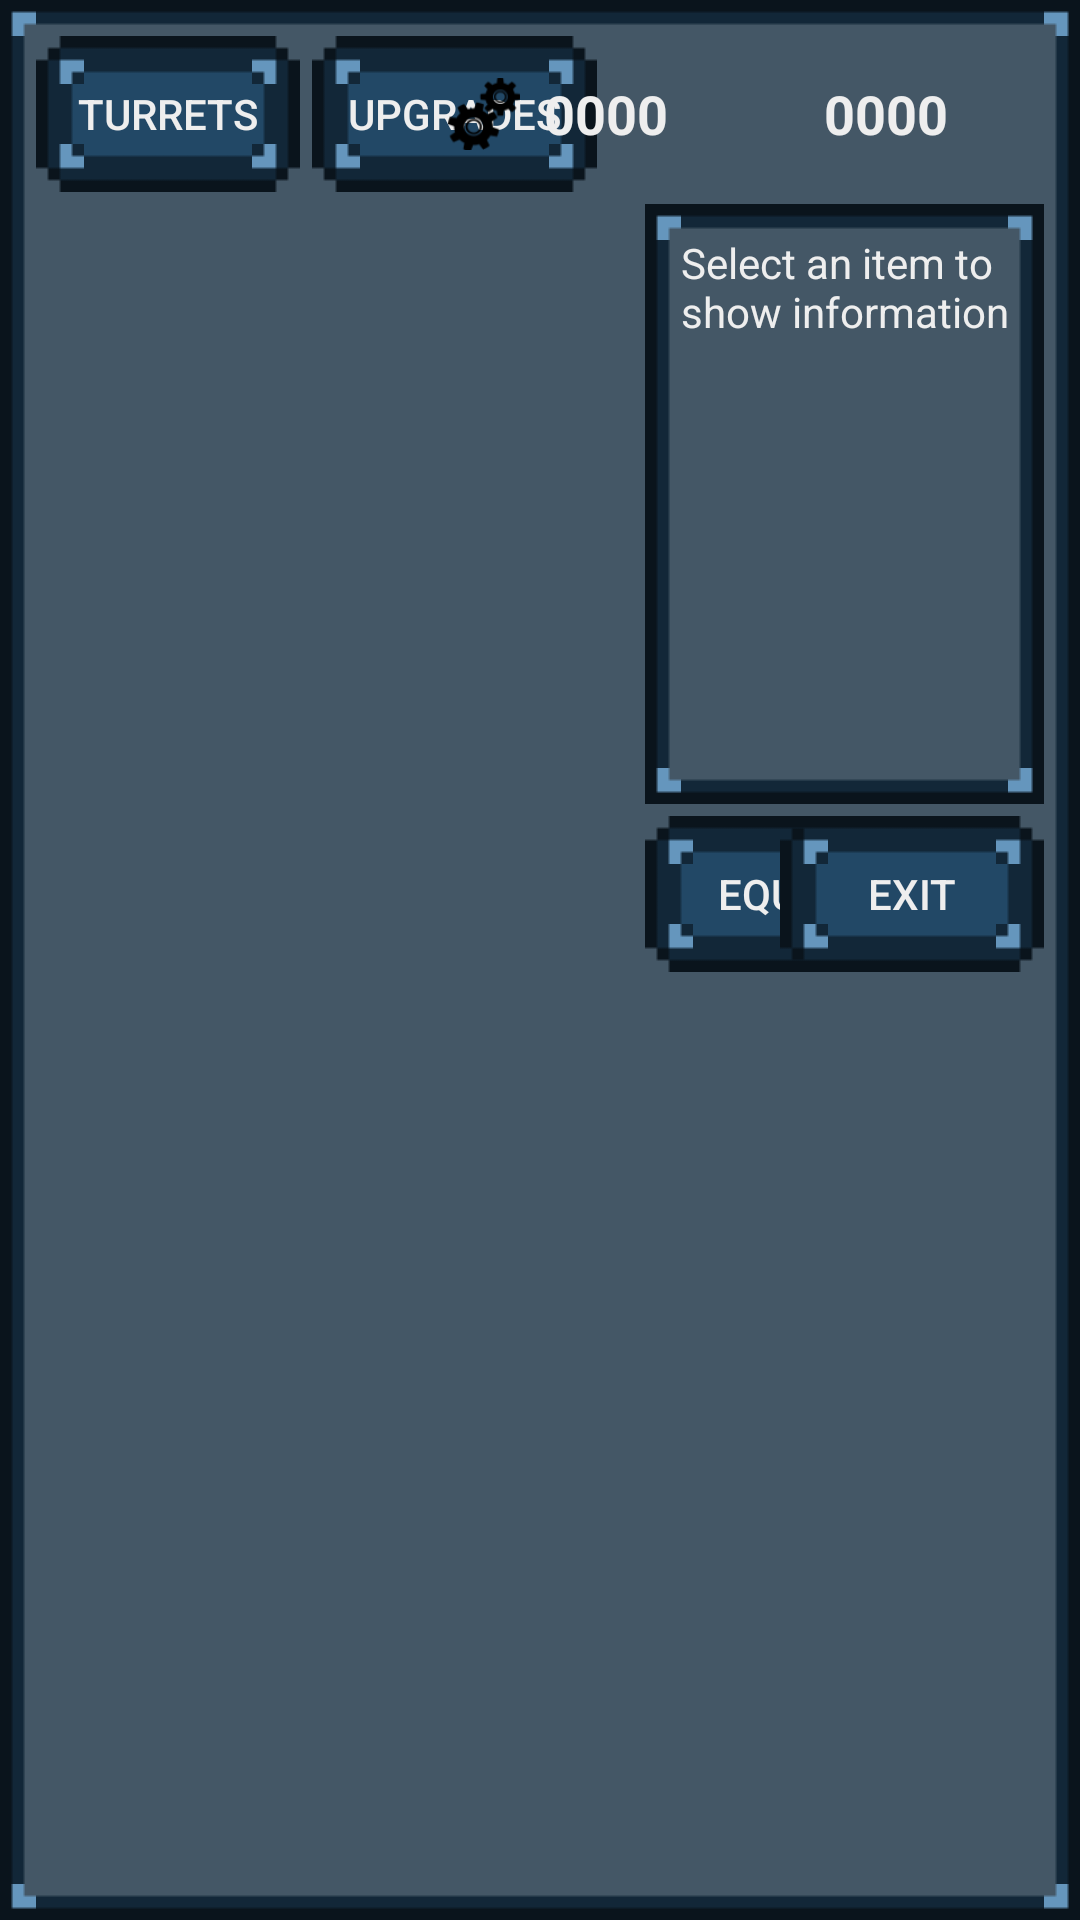

Icons on this 1080px x 1920px Android screen, each with its box as {"left": x1, "top": y1, "right": x2, "bottom": y2}:
scrap: {"left": 448, "top": 78, "right": 520, "bottom": 150}
